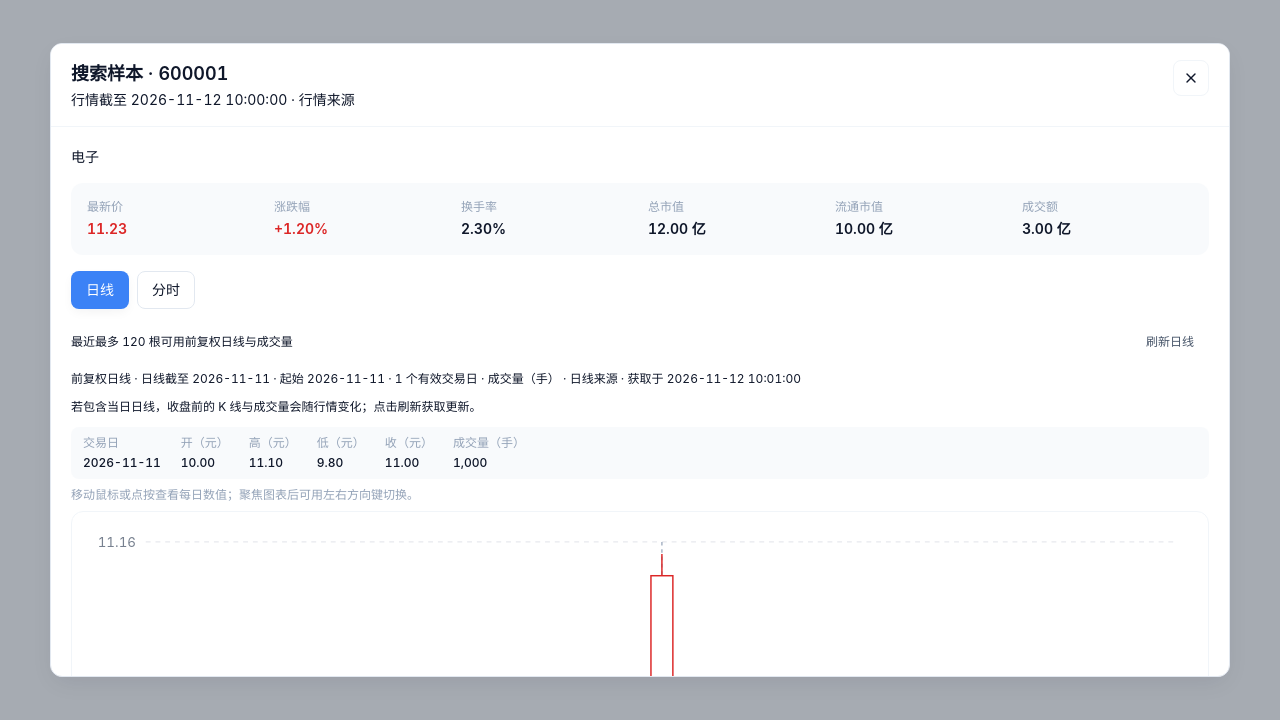
Test: StockSearchDetail › shows quote metrics and loads daily data on mount, loading intraday only when selected
The width and height of the screenshot is (1280, 720).
Expected: the dialog shows "搜索样本 · 600001", [71,63,228,84]
Expected: the dialog shows "行情截至 2026-11-12 10:00:00", [71,91,355,108]
Click the button "分时".
click(166, 290)  # box [137,271,195,309]
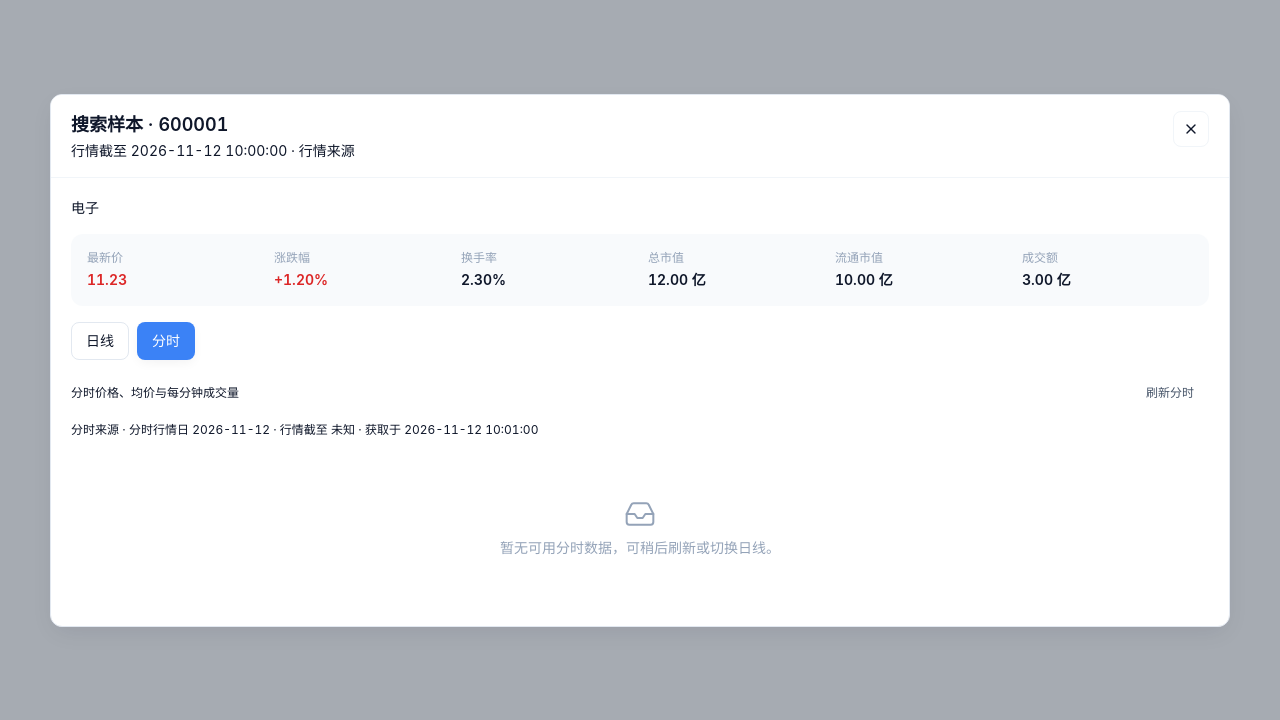
Expected: the text "日线截至" is gone
Expected: the dialog shows "暂无可用分时数据", [500,538,780,556]
